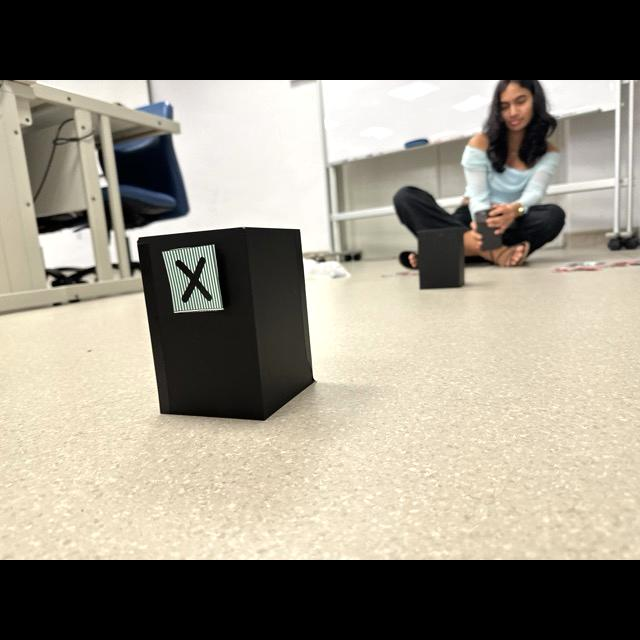X: (177, 257, 212, 303)
